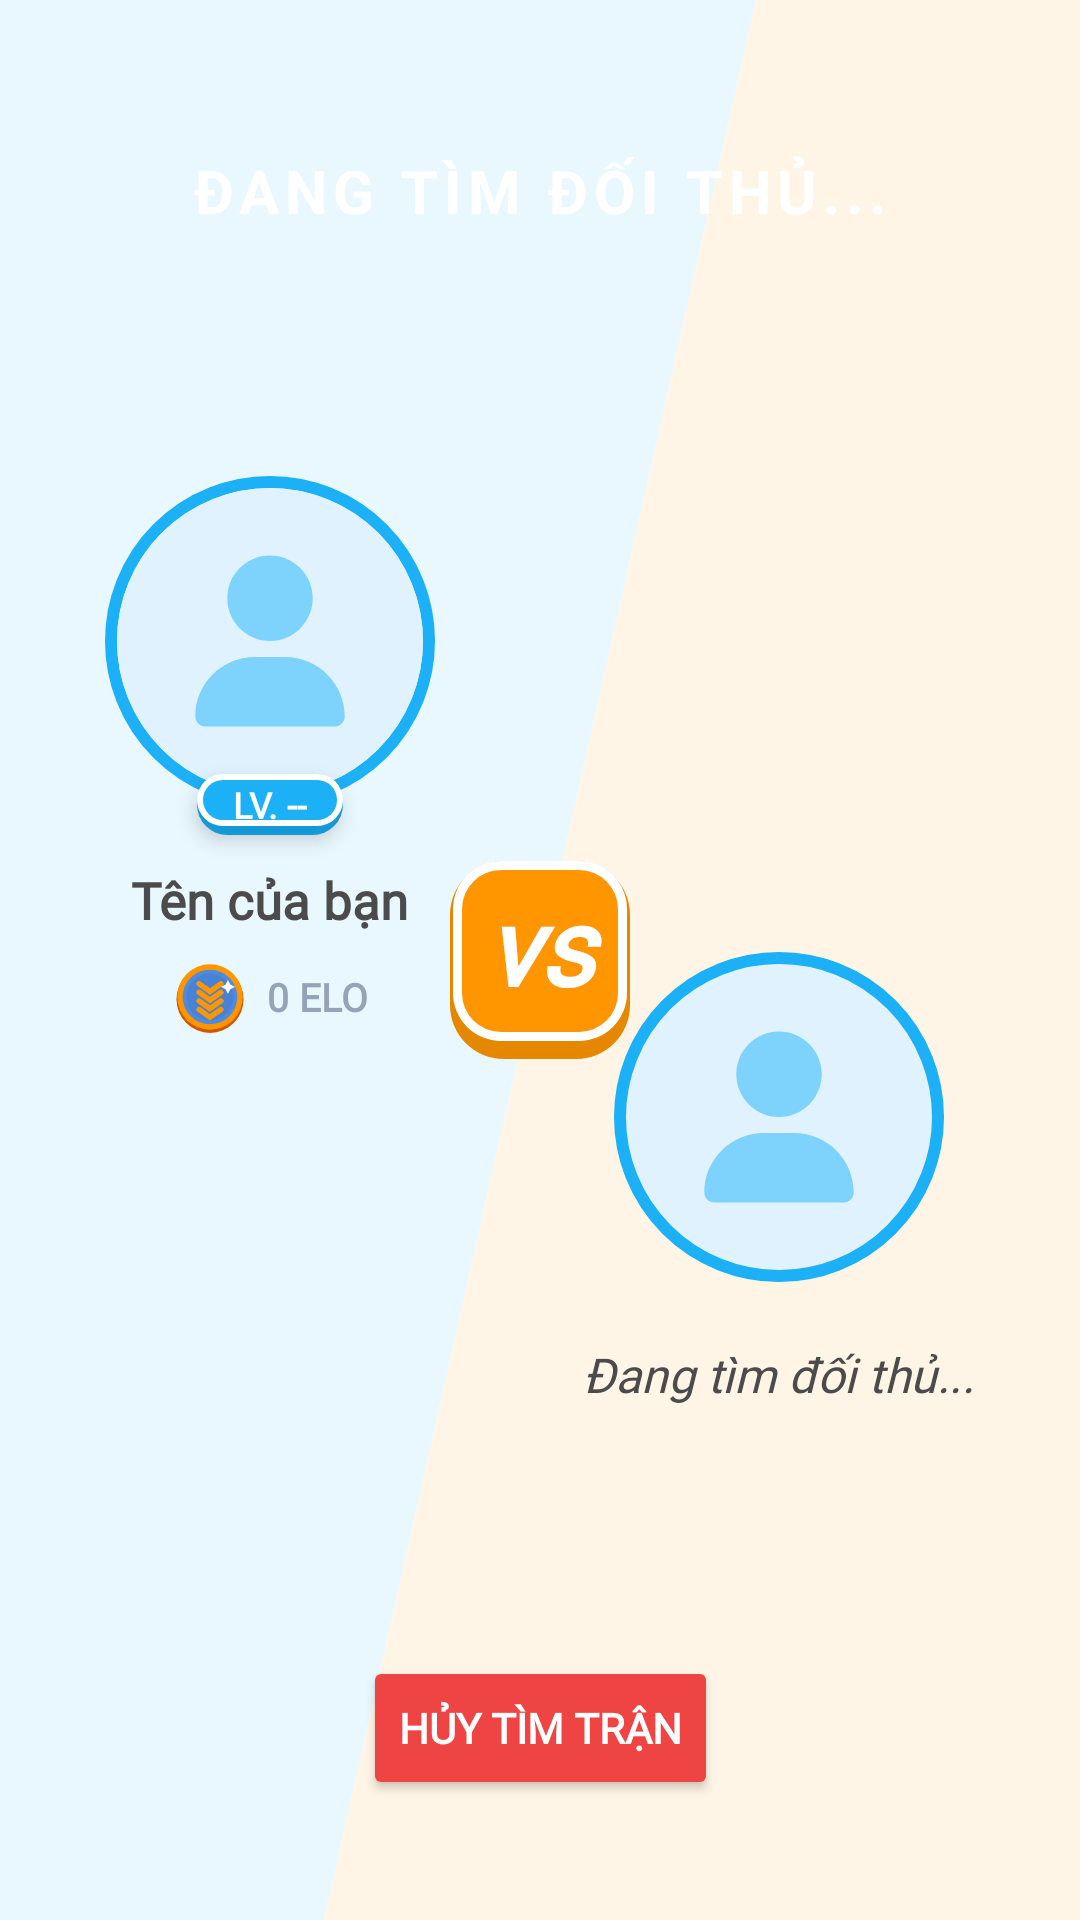

Icon click points for this 1080px x 1920px phone screenshot, format point (x, y):
rank: point (210, 998)
